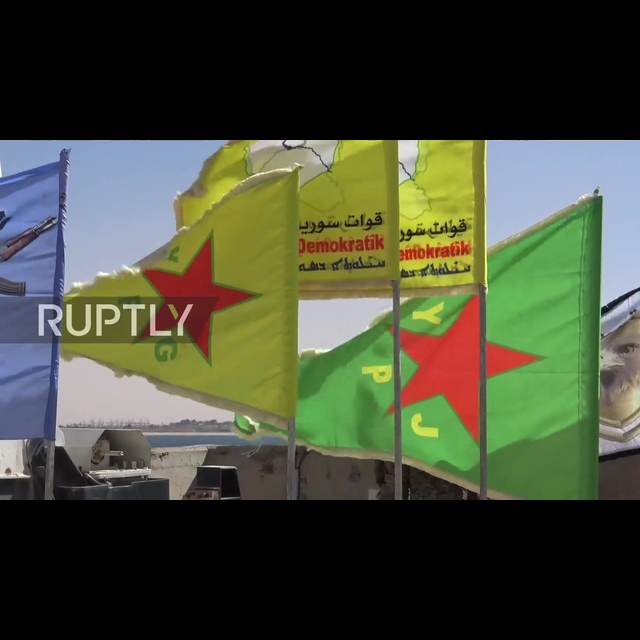YPJ: (358, 297, 532, 451)
